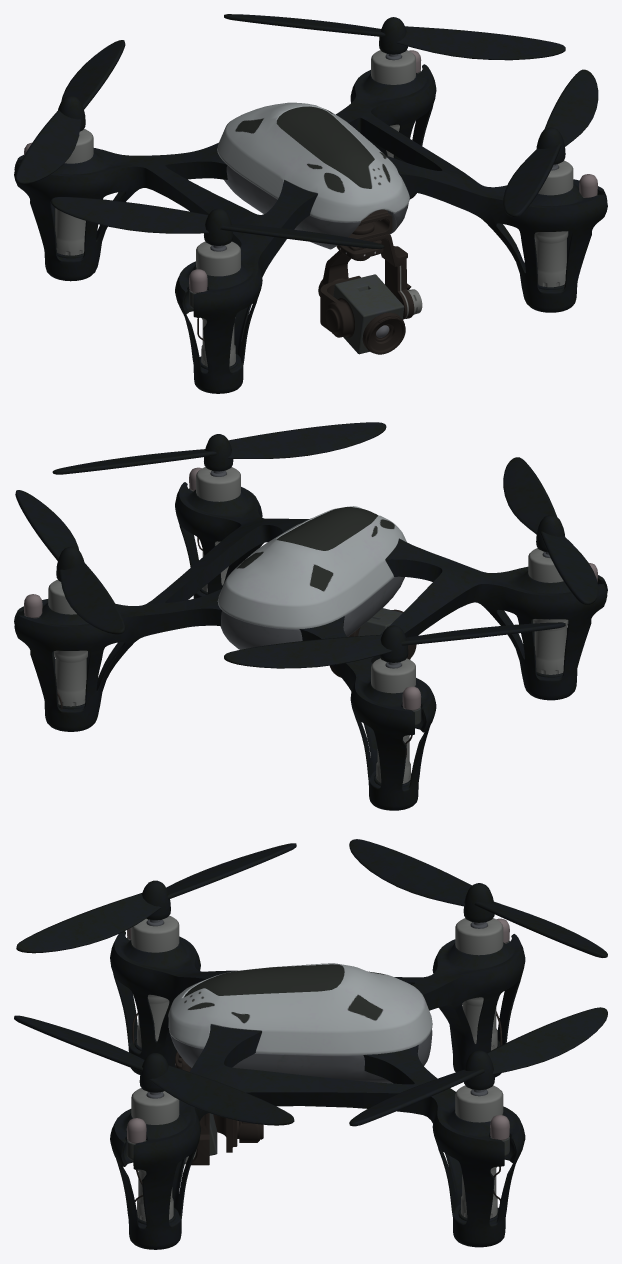
File: drone.fbx
The picture shows the model from 3 angles, top to bottom: view 1: azimuth 30°, elevation 25°; view 2: azimuth 150°, elevation 25°; view 3: azimuth 270°, elevation 25°; orthographic projection. The views are drawn at different scales.
Visible parts, largest first — view 1: node_id143; view 2: node_id143; view 3: node_id143.
Boxes of the visible parts, x1,y1,x2,y2 form: node_id143: [14, 14, 607, 393]; node_id143: [14, 422, 607, 810]; node_id143: [14, 839, 607, 1249].
Bounding box in the file's own units: 0.512 × 0.1608 × 0.4518.
Materials: 1 (1 with a texture image).
